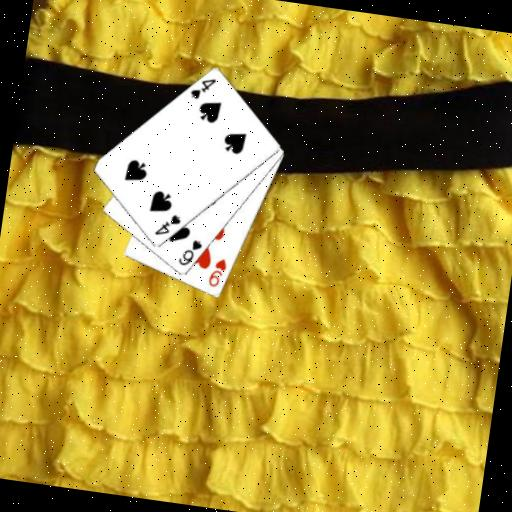4S: (186, 73, 218, 104), (151, 210, 183, 240)
6S: (175, 235, 205, 270)
9H: (205, 254, 229, 290)
